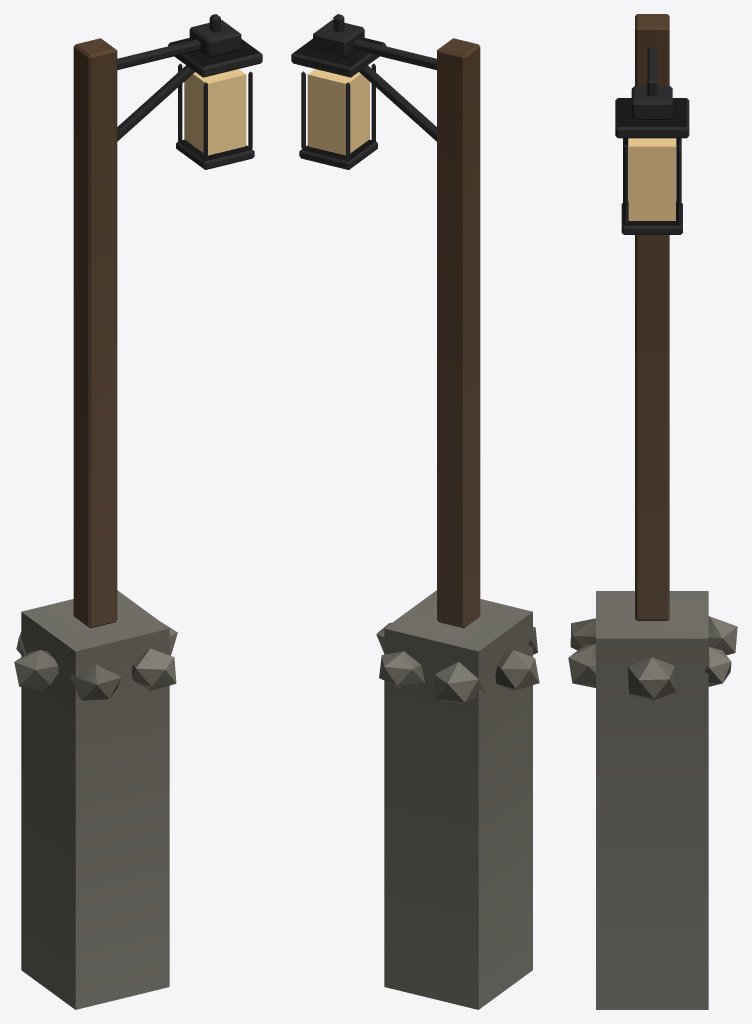
The model's file is fener.glb.
3 renders of one model, left to right at view 1: azimuth 30°, elevation 25°; view 2: azimuth 150°, elevation 25°; view 3: azimuth 270°, elevation 25°, orthographic. The views are drawn at different scales.
Parts seen in each view (by area): view 1: stone-plinth-001, dark-001, dark-lamp-002, window-001, stone-002; view 2: stone-plinth-001, dark-001, dark-lamp-002, window-001, stone-002; view 3: stone-plinth-001, dark-001, dark-lamp-002, stone-002, window-001.
Boxes of the visible parts, x1=… form: stone-plinth-001: x1=21, y1=590, x2=169, y2=1009; dark-001: x1=73, y1=38, x2=200, y2=628; dark-lamp-002: x1=168, y1=14, x2=262, y2=169; window-001: x1=184, y1=69, x2=246, y2=155; stone-002: x1=14, y1=622, x2=177, y2=700; stone-plinth-001: x1=384, y1=590, x2=532, y2=1009; dark-001: x1=353, y1=38, x2=480, y2=628; dark-lamp-002: x1=291, y1=14, x2=386, y2=169; window-001: x1=307, y1=69, x2=369, y2=155; stone-002: x1=376, y1=622, x2=539, y2=703; stone-plinth-001: x1=596, y1=591, x2=708, y2=1009; dark-001: x1=635, y1=14, x2=669, y2=620; dark-lamp-002: x1=615, y1=78, x2=689, y2=234; stone-002: x1=568, y1=616, x2=737, y2=700; window-001: x1=628, y1=138, x2=675, y2=220.
Bounding box in the file's own units: 1.34 × 5.21 × 0.8263.
